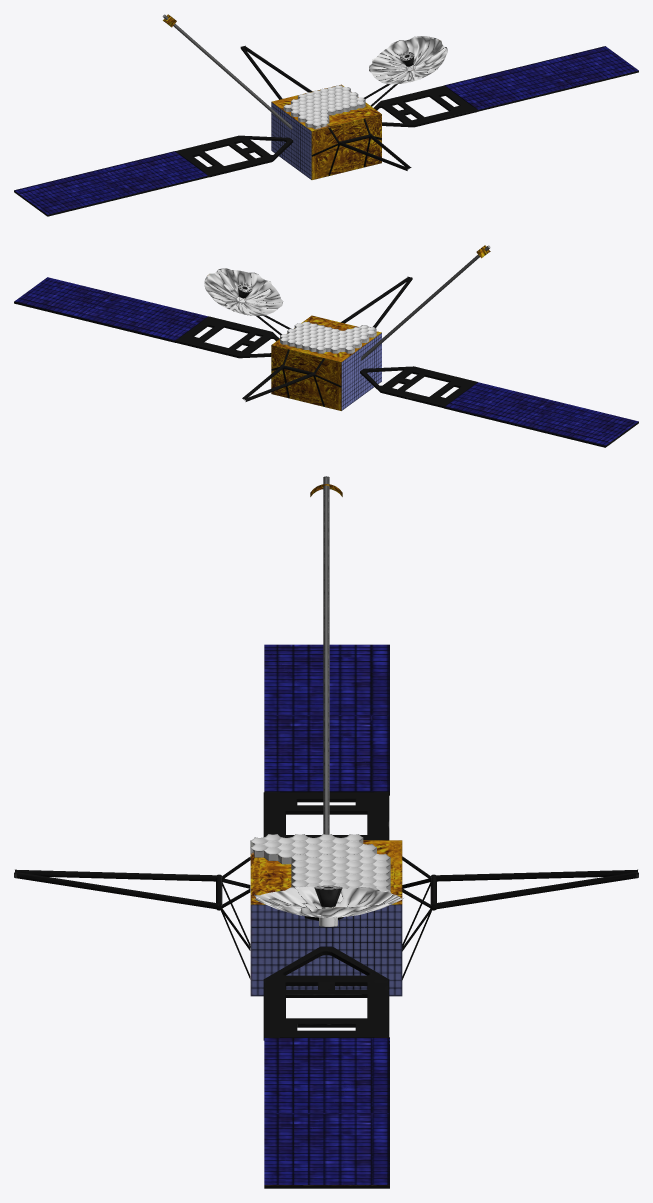
File: satellite_tdrs.glb
3 views of the same model, one above another, from view 1: azimuth 30°, elevation 25°; view 2: azimuth 150°, elevation 25°; view 3: azimuth 270°, elevation 25° (orthographic). The views are drawn at different scales.
Parts seen in each view (by area): view 1: tdrs_no_an; view 2: tdrs_no_an; view 3: tdrs_no_an.
Boxes of the visible parts, left/top/right/bottom form: tdrs_no_an: left=14, top=14, right=638, bottom=216; tdrs_no_an: left=14, top=245, right=638, bottom=447; tdrs_no_an: left=14, top=476, right=638, bottom=1188.
Size of the model in its own units: 40.73 by 11.95 by 19.91.
Materials: 8 (8 with a texture image).
